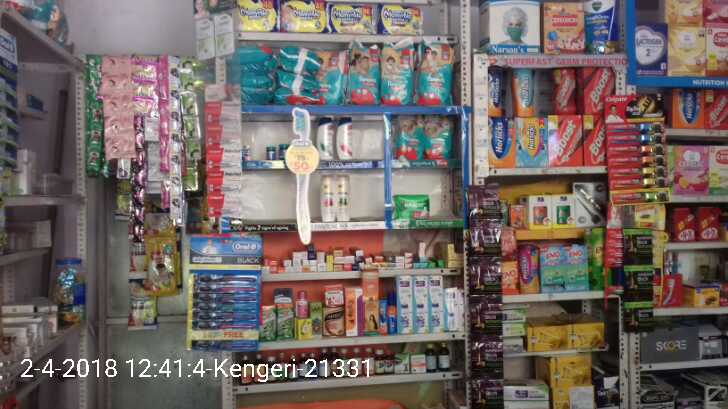oralcare: (187, 235, 265, 351)
vicks: (267, 142, 289, 158)
